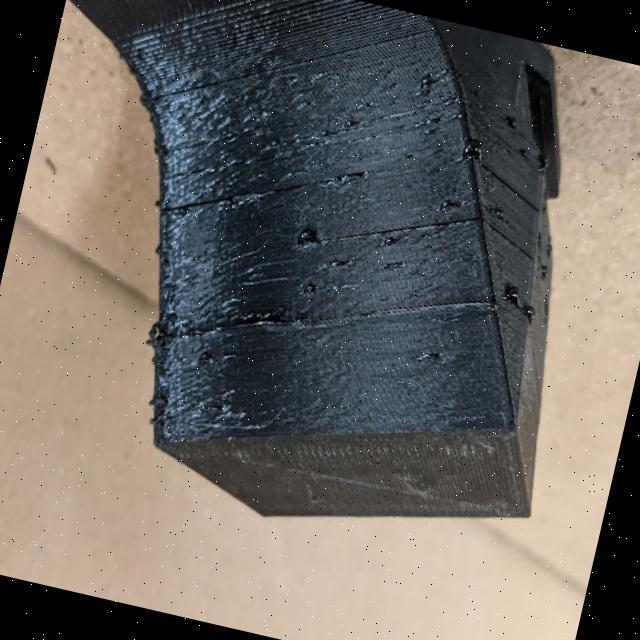blobs: (364, 210, 426, 272), (487, 270, 547, 332), (274, 209, 333, 265), (401, 55, 449, 113), (446, 129, 496, 175), (406, 340, 452, 380), (430, 182, 470, 215), (488, 204, 526, 228)
cracks: (161, 164, 349, 237), (155, 300, 313, 359), (445, 205, 537, 271)
